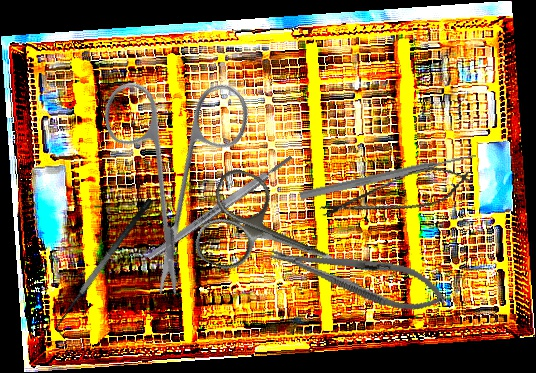Iris Scissors: (38, 29, 311, 302), (189, 164, 351, 305)
Micro Scissor: (314, 157, 478, 232)
Needle Holder: (265, 230, 451, 322)
Pusher: (298, 149, 478, 203)
Scalpel Handle: (145, 153, 295, 262)
Spatula Surgical: (47, 197, 165, 338)
